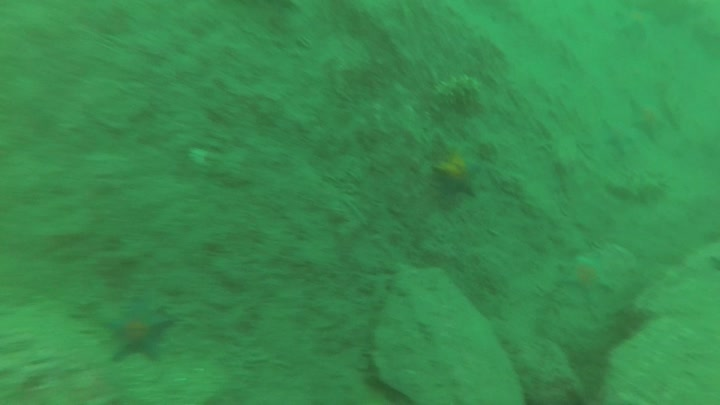holothurian: (432, 71, 484, 108)
starfish: (105, 297, 176, 365), (555, 253, 619, 305), (429, 144, 484, 201), (601, 119, 648, 157), (633, 96, 671, 143)
